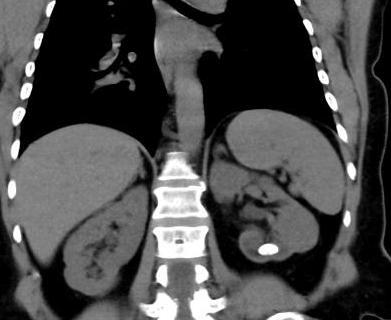Tas_Var: (256, 243, 280, 257)
